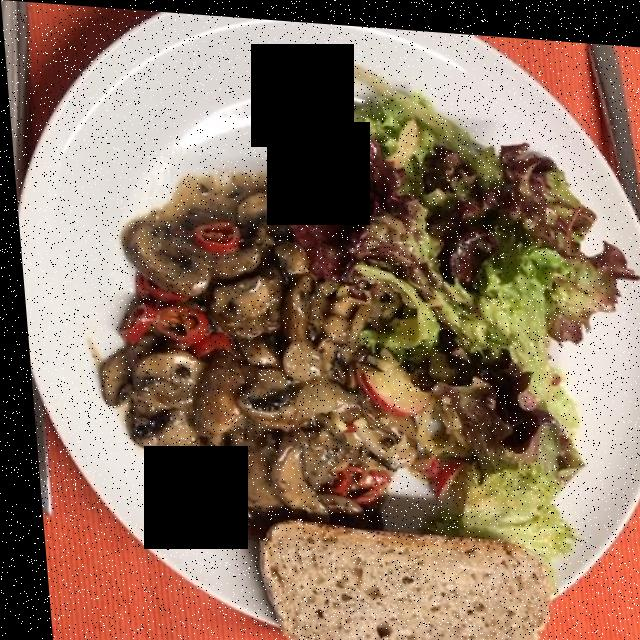bread-whole-wheat: (251, 520, 542, 640)
mushroom: (103, 177, 402, 516)
salad-leaf-salad-green: (330, 67, 621, 549)
